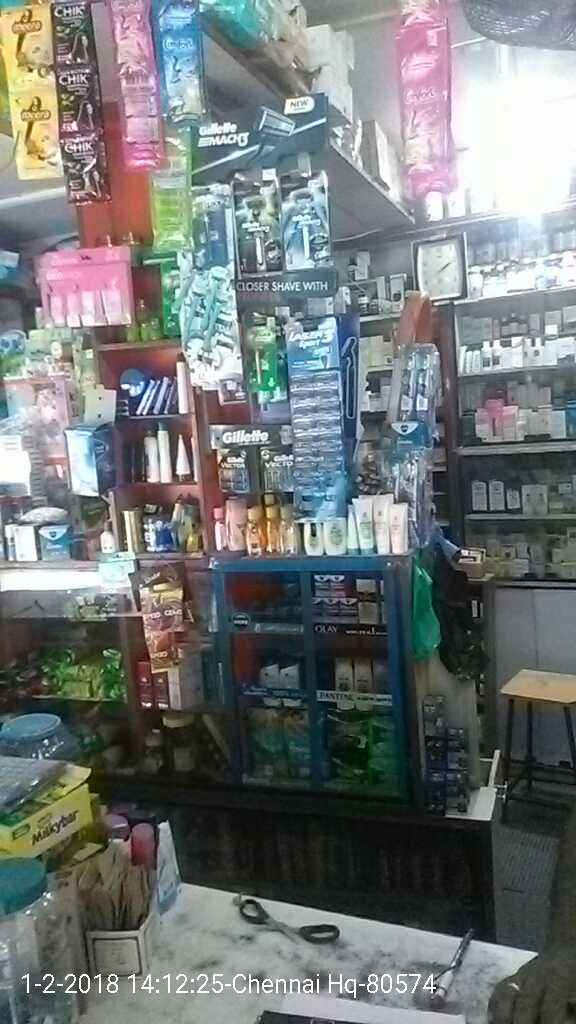vicks: (236, 570, 312, 626)
